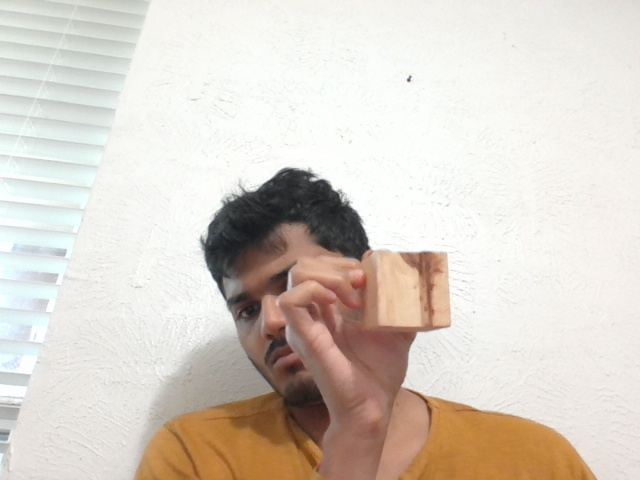NormalBlock: (362, 250, 453, 333)
